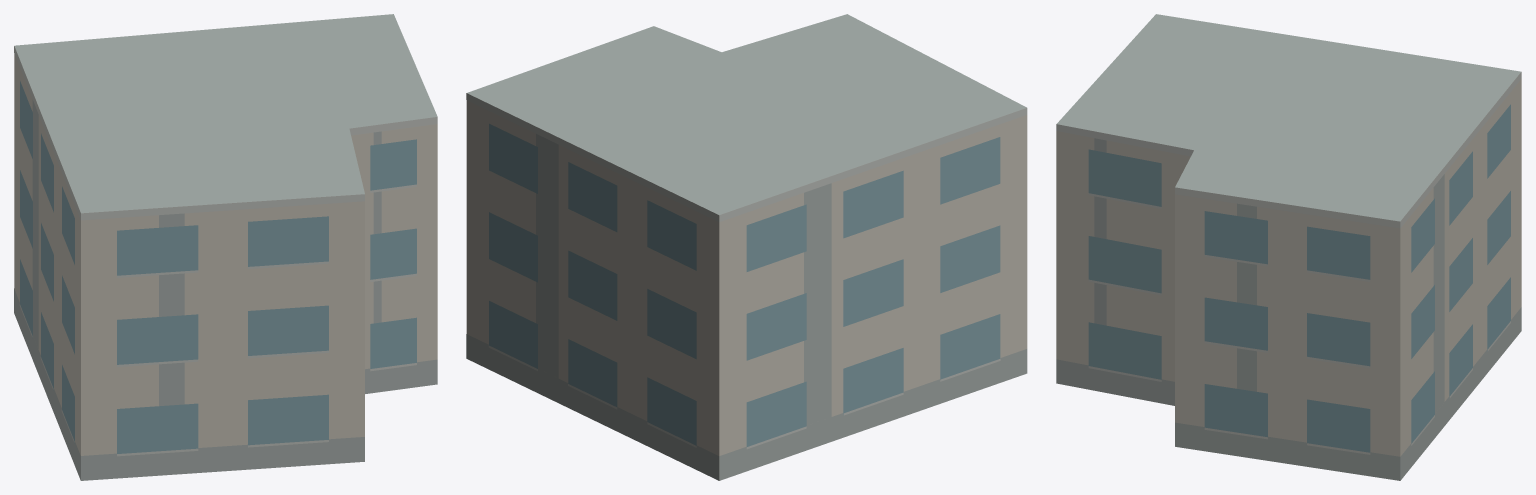
File: survey-upis-32881423.glb
The picture shows the model from 3 angles, left to right: view 1: azimuth 30°, elevation 25°; view 2: azimuth 150°, elevation 25°; view 3: azimuth 270°, elevation 25°; orthographic projection. The views are drawn at different scales.
Visible parts, largest first — view 1: survey-upis-32881423.tmp; view 2: survey-upis-32881423.tmp; view 3: survey-upis-32881423.tmp.
Part boxes in pixels (x1,y1,x2,y2): survey-upis-32881423.tmp: [14, 14, 437, 480]; survey-upis-32881423.tmp: [466, 14, 1027, 480]; survey-upis-32881423.tmp: [1056, 14, 1521, 480].
Bounding box in the file's own units: 15.71 × 9.15 × 14.88.
